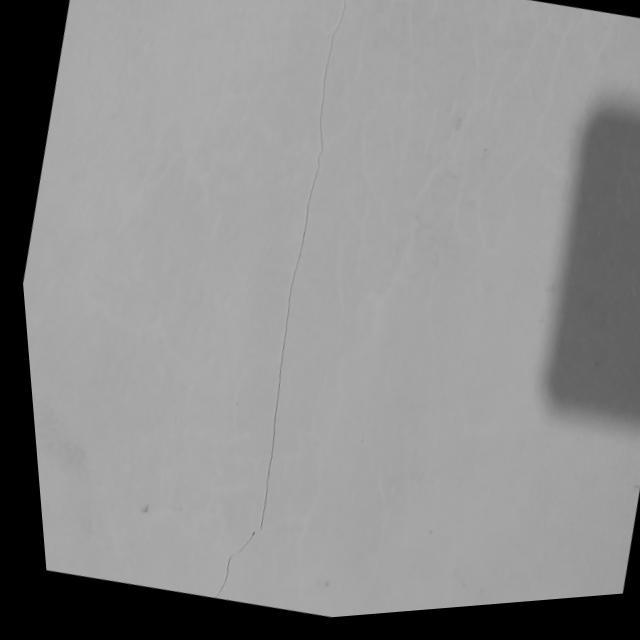Crack: (220, 6, 349, 588)
